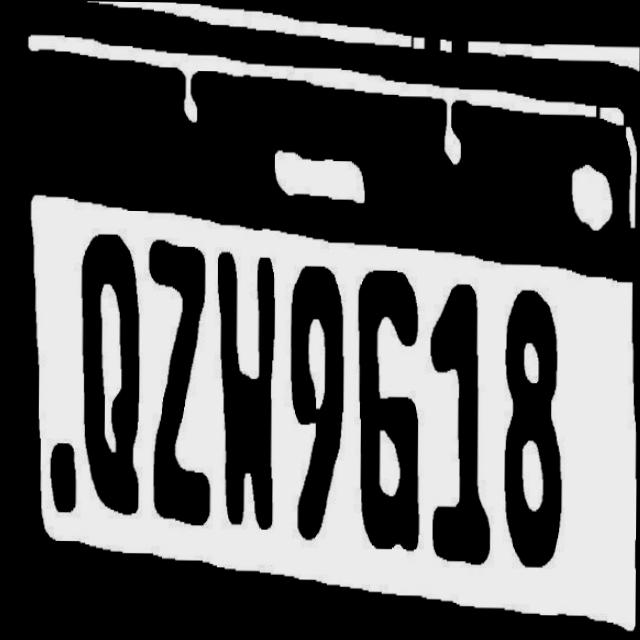1: (427, 278, 496, 567)
8: (503, 286, 566, 577)
9: (288, 261, 346, 537)
g: (354, 267, 424, 560)
q: (76, 231, 142, 524)
w: (214, 245, 280, 534)
z: (146, 235, 212, 534)
